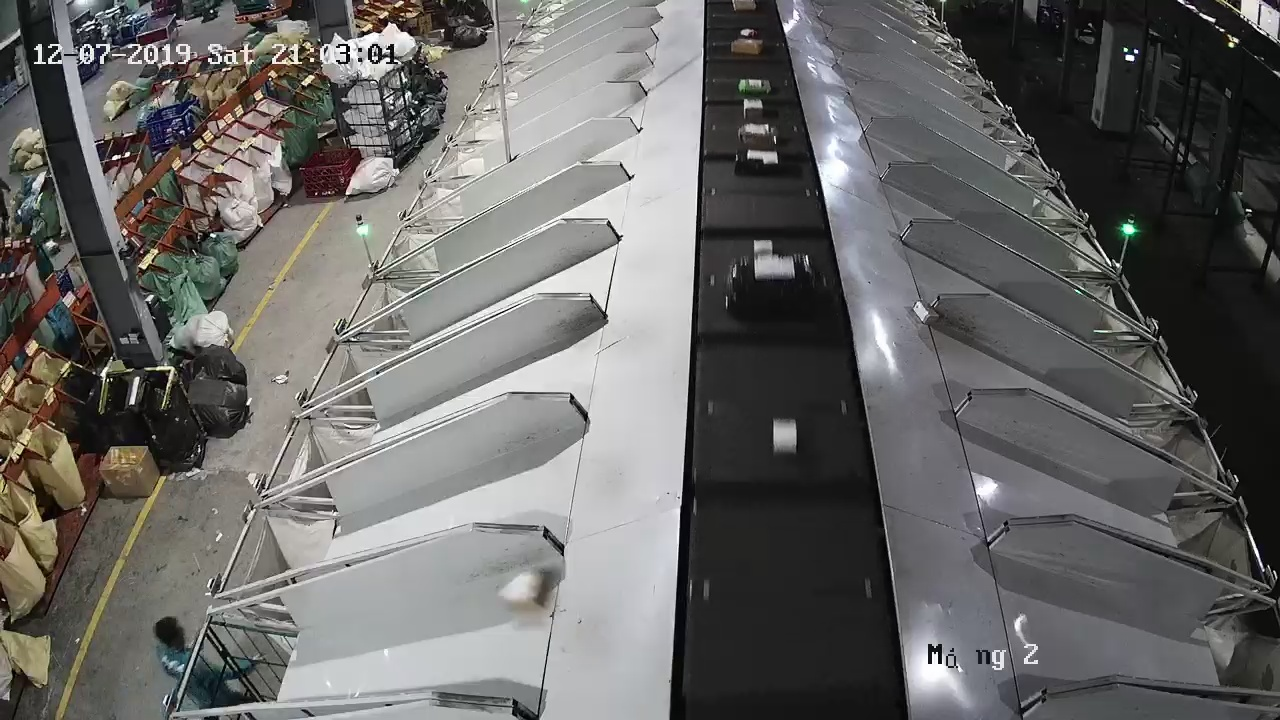parcel: (494, 569, 553, 613)
